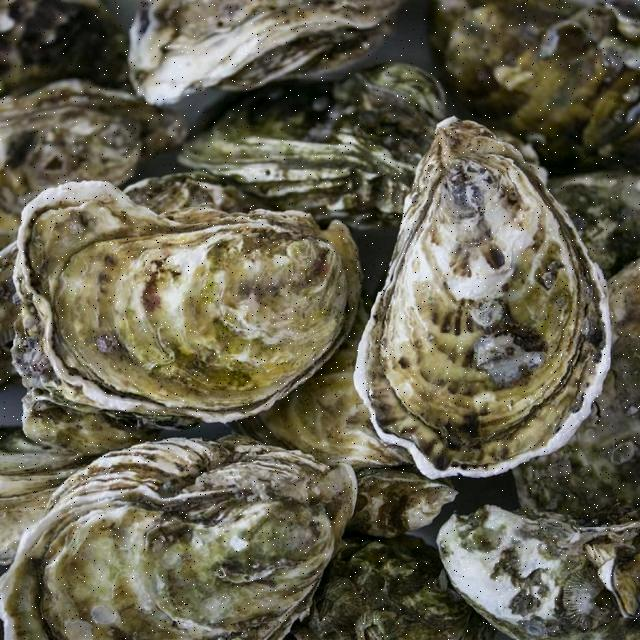Oyster-Closed: (351, 116, 605, 478), (15, 178, 359, 422), (0, 435, 359, 640), (126, 0, 398, 104), (435, 504, 640, 639)
